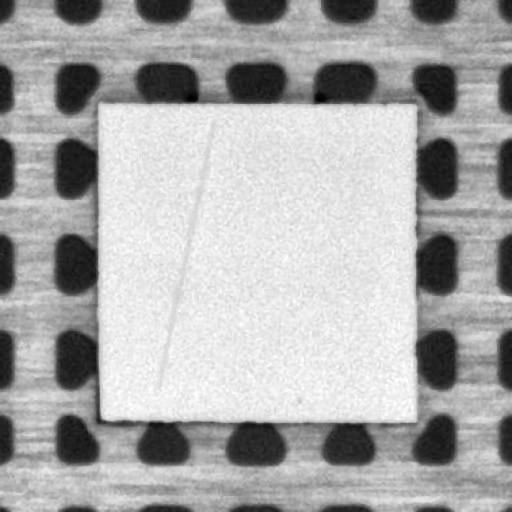DIE_CRACK: (157, 120, 212, 388)
